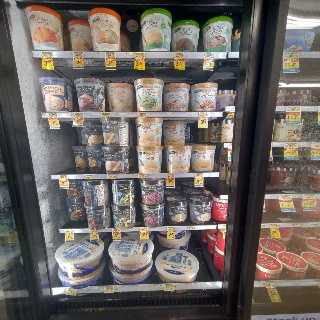All PRICE TAGS: (286, 106, 301, 112), (284, 52, 299, 58), (285, 142, 298, 148), (278, 195, 292, 200), (173, 52, 184, 58), (264, 281, 275, 287), (104, 285, 113, 292), (135, 52, 145, 58), (105, 52, 115, 58), (42, 51, 52, 57), (73, 52, 84, 57), (164, 284, 173, 290), (311, 142, 320, 148), (303, 195, 316, 199), (84, 174, 94, 179), (137, 112, 147, 117), (101, 112, 111, 117), (199, 112, 208, 117), (205, 53, 214, 58), (189, 226, 199, 230), (138, 174, 148, 178), (73, 113, 83, 117), (48, 113, 58, 117), (140, 227, 149, 231), (65, 229, 74, 233), (107, 174, 116, 178), (59, 175, 68, 179), (89, 229, 98, 233), (67, 288, 76, 292), (294, 223, 303, 227), (167, 226, 175, 230), (195, 173, 203, 177), (166, 173, 174, 177), (270, 224, 278, 228), (112, 228, 121, 231)
